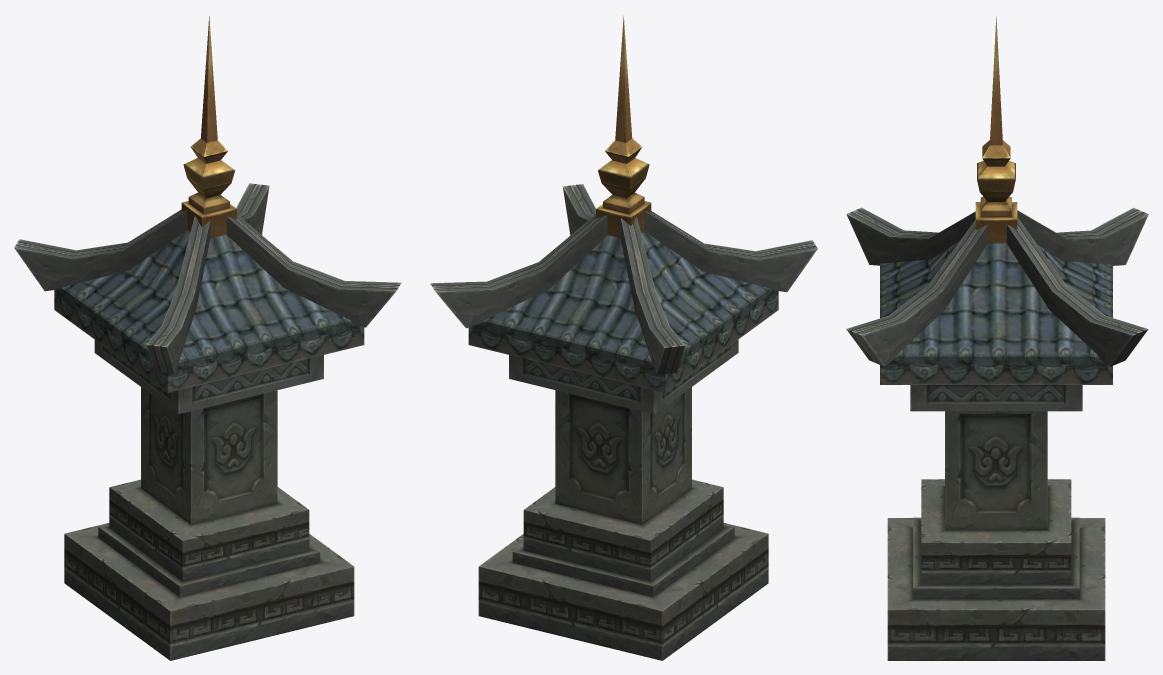
The model's file is deng_003.FBX.
3 renders of one model, left to right at view 1: azimuth 30°, elevation 25°; view 2: azimuth 150°, elevation 25°; view 3: azimuth 270°, elevation 25°, orthographic. The views are drawn at different scales.
Visible parts, largest first — view 1: deng_003_a01; view 2: deng_003_a01; view 3: deng_003_a01.
Part boxes in pixels (box(x1,y1,x2,y2)): deng_003_a01: box(14, 16, 401, 660); deng_003_a01: box(430, 15, 817, 660); deng_003_a01: box(846, 16, 1148, 660).
Size of the model in its own units: 152 by 334 by 152.
1 material, 1 textured.
